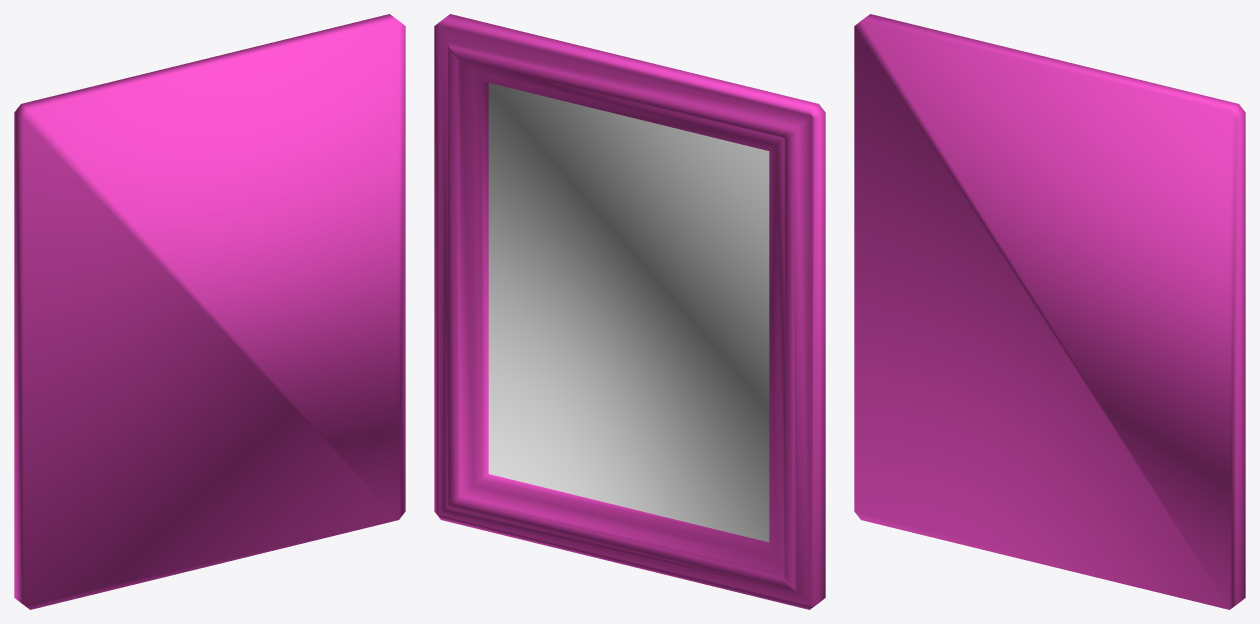
File: Picture_Frame.fbx
3 renders of one model, left to right at view 1: azimuth 30°, elevation 25°; view 2: azimuth 150°, elevation 25°; view 3: azimuth 330°, elevation 25°, orthographic.
Parts seen in each view (by area): view 1: Picture_Frame.001; view 2: Picture_Frame.001; view 3: Picture_Frame.001.
Boxes of the visible parts, left/top/right/bottom form: Picture_Frame.001: left=14, top=14, right=405, bottom=609; Picture_Frame.001: left=434, top=14, right=825, bottom=609; Picture_Frame.001: left=854, top=14, right=1245, bottom=609.
Size of the model in its own units: 0.8917 by 0.0553 by 1.11.
